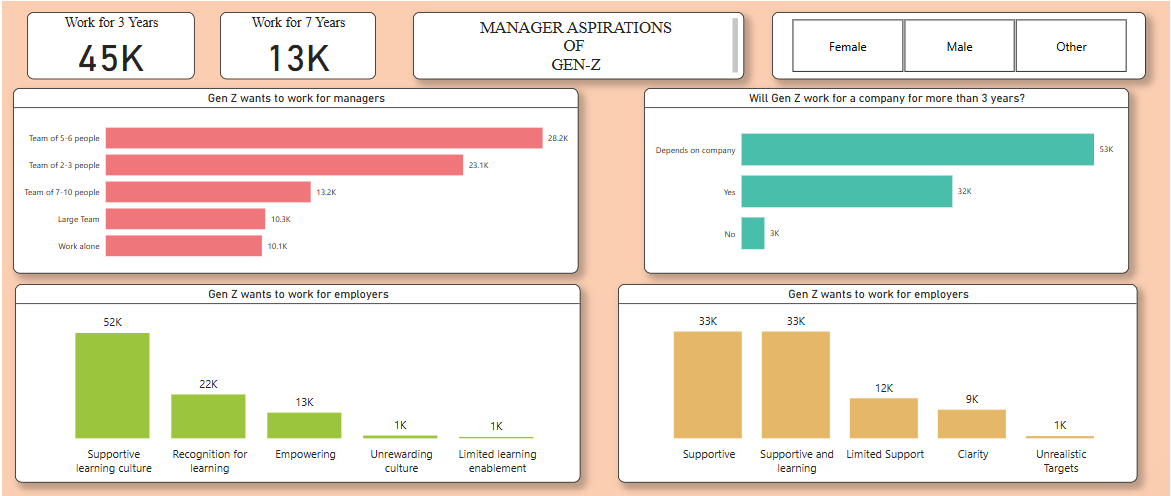

This screenshot's page, from the dashboard's own definition file:
{"tool":"powerbi","page":{"name":"Page 2","canvas":[1700,720],"ordinal":1},"visuals":[{"type":"shape","box":[11.1,0,1673.1,102.7],"z":0},{"type":"textbox","box":[351,9.1,705.6,82.3],"z":1000},{"type":"slicer","fields":{"Values":["Form responses 1.Gender"]},"box":[1096.5,20.5,451.9,61.6],"z":2000},{"type":"cardVisual","fields":{"Data":["Form responses 1.Work for 3 years","Form responses 1.Work for 7 years"]},"box":[11.3,117.6,616.5,110.6],"z":3000},{"type":"barChart","title":"Gen Z wants to work for managers","fields":{"Y":["CountNonNull(Form responses 1.Likelihood of Staying with One Employer for 7+ Years)"],"Category":["Form responses 1.Preferred Work Setup"]},"box":[653.4,117.6,508.8,280.6],"z":4000},{"type":"barChart","title":"Will Gen Z work for a company for more than 3 years?","fields":{"Category":["Form responses 1.Likelihood of Staying with One Employer for 3+ Years"],"Y":["CountNonNull(Form responses 1.Likelihood of Staying with One Employer for 3+ Years)"]},"box":[652,403.9,508.8,316.1],"z":5000},{"type":"columnChart","title":"Gen Z wants to work for employers","fields":{"Category":["Form responses 1.Preferred Employers to Work With"],"Y":["CountNonNull(Form responses 1.Preferred Employers to Work With)"]},"box":[1165,117.6,534.3,280.6],"z":6000},{"type":"columnChart","title":"Gen Z wants to work for employers","fields":{"Category":["Form responses 1.Ideal Manager You'd Work for Without Checking the Time"],"Y":["CountNonNull(Form responses 1.Ideal Manager You'd Work for Without Checking the Time)"]},"box":[1165,403.9,534.3,316.1],"z":7000},{"type":"barChart","title":"Factors Enhance Happiness & Productivity at Work","fields":{"Category":["Form responses 1.Factors That Enhance Happiness and Productivity at Work"],"Y":["CountNonNull(Form responses 1.Factors That Enhance Happiness and Productivity at Work)"]},"box":[11.3,228.2,627.9,491.8],"z":7001}]}

Visuals, with their boxes in screenshot pixels (x1, y1, x2, y2), scaled from the page's 1700x720 canvas onto the 1171x496 screenshot:
shape: (left=8, top=0, right=1160, bottom=71)
textbox: (left=242, top=6, right=728, bottom=63)
slicer - Form responses 1.Gender: (left=755, top=14, right=1067, bottom=57)
cardVisual - Form responses 1.Work for 3 years x Form responses 1.Work for 7 years: (left=8, top=81, right=432, bottom=157)
"Gen Z wants to work for managers" barChart: (left=450, top=81, right=801, bottom=274)
"Will Gen Z work for a company for more than 3 years?" barChart: (left=449, top=278, right=800, bottom=495)
"Gen Z wants to work for employers" columnChart: (left=802, top=81, right=1170, bottom=274)
"Gen Z wants to work for employers" columnChart: (left=802, top=278, right=1170, bottom=495)
"Factors Enhance Happiness & Productivity at Work" barChart: (left=8, top=157, right=440, bottom=495)
